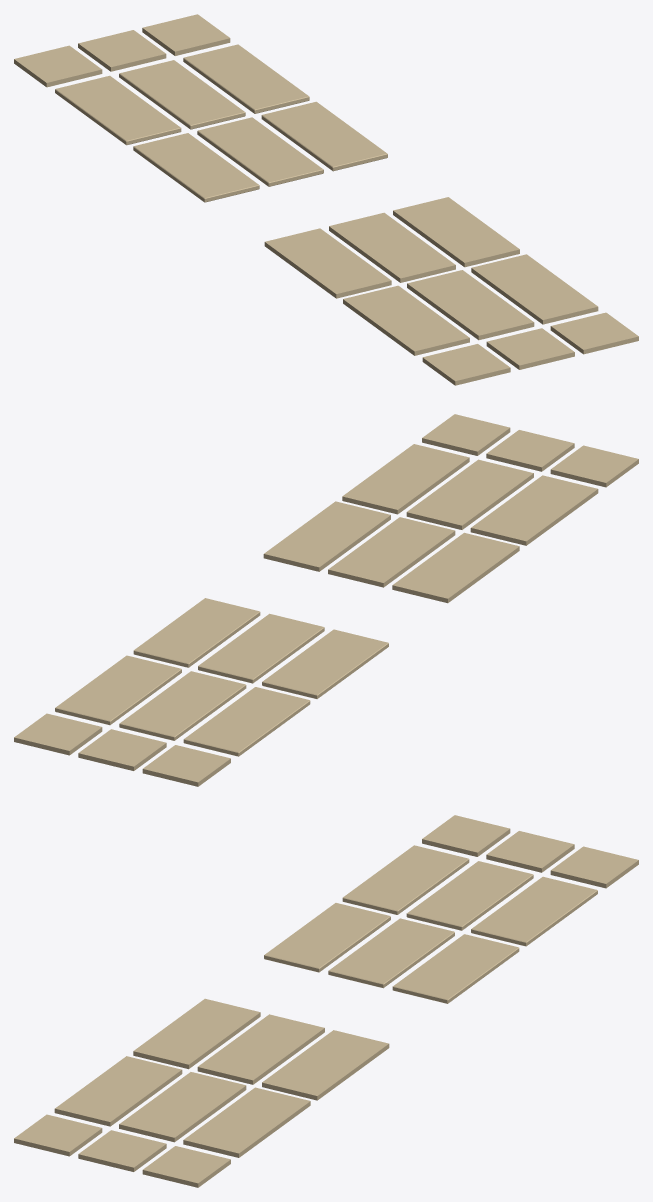
Rendered from SoundPanels.obj.
3 renders of one model, top to bottom at view 1: azimuth 30°, elevation 25°; view 2: azimuth 150°, elevation 25°; view 3: azimuth 330°, elevation 25°, orthographic.
Parts seen in each view (by area): view 1: Cube.013, Cube.011, Cube.012, Cube.014; view 2: Cube.013, Cube.011, Cube.012, Cube.014; view 3: Cube.013, Cube.011, Cube.012, Cube.014.
Boxes of the visible parts, x1,y1,x2,y2 form: Cube.013: [264, 197, 598, 355]; Cube.011: [55, 44, 387, 202]; Cube.012: [14, 14, 230, 87]; Cube.014: [422, 312, 638, 385]; Cube.013: [263, 444, 598, 603]; Cube.011: [55, 598, 388, 756]; Cube.012: [14, 713, 230, 786]; Cube.014: [422, 414, 638, 487]; Cube.013: [54, 998, 389, 1157]; Cube.011: [264, 845, 597, 1003]; Cube.012: [422, 815, 638, 888]; Cube.014: [14, 1114, 230, 1187].
Bounding box in the file's own units: 3.92 × 0.0913 × 16.22.
